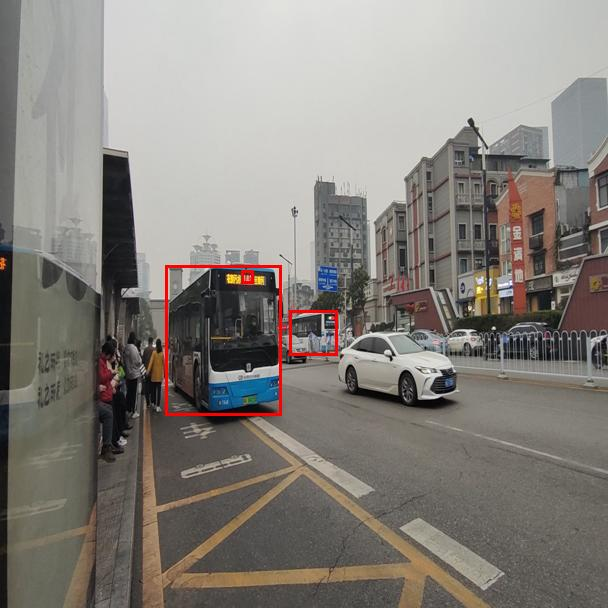bus: (165, 265, 281, 415), (289, 310, 337, 355)
screen: (241, 270, 253, 283)
